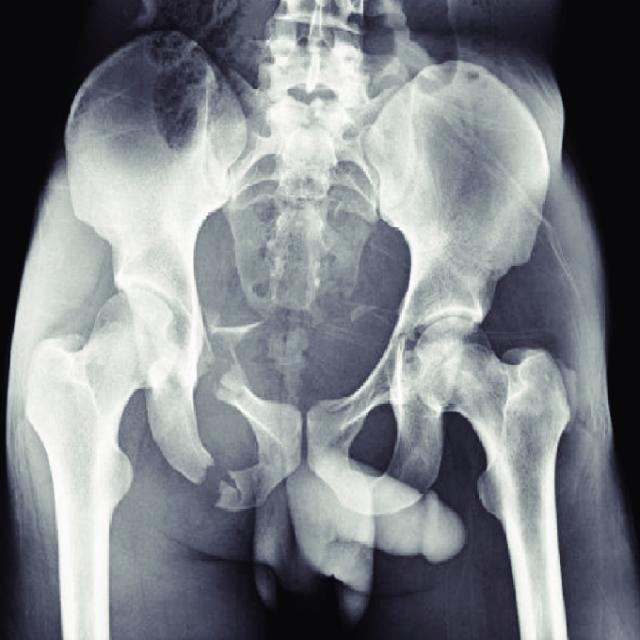bone: (194, 314, 250, 423), (190, 434, 244, 526)
